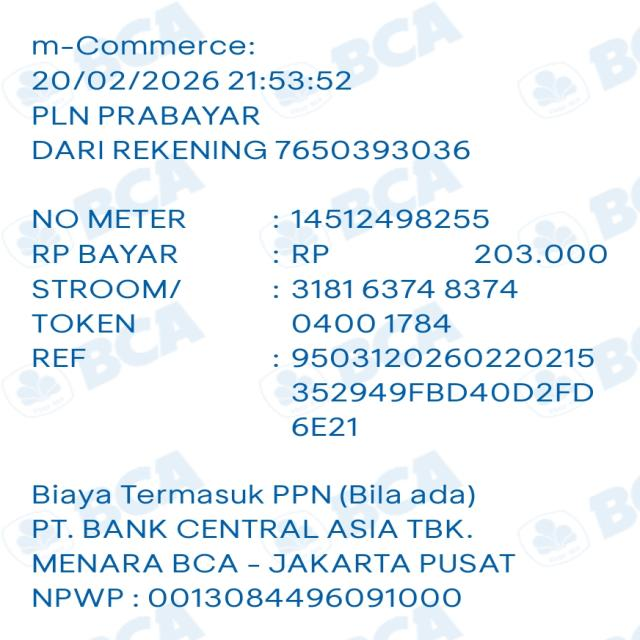date: (28, 63, 368, 95)
store: (28, 102, 270, 130)
total: (286, 237, 620, 275)
